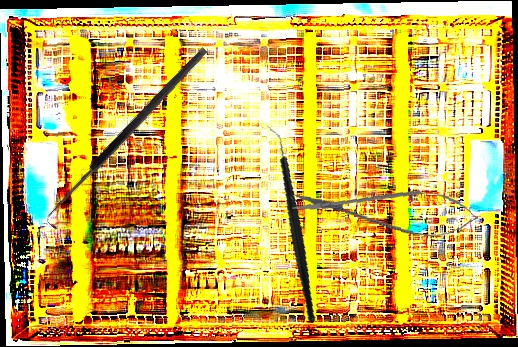Chopper: (233, 123, 349, 324)
Hook Surgical: (41, 45, 217, 232)
Micro Scissor: (290, 178, 480, 242)
